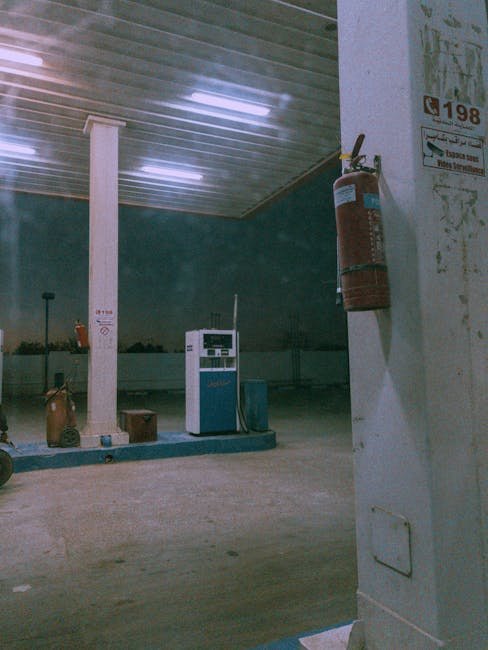fire_extinguisher: (332, 133, 391, 312)
